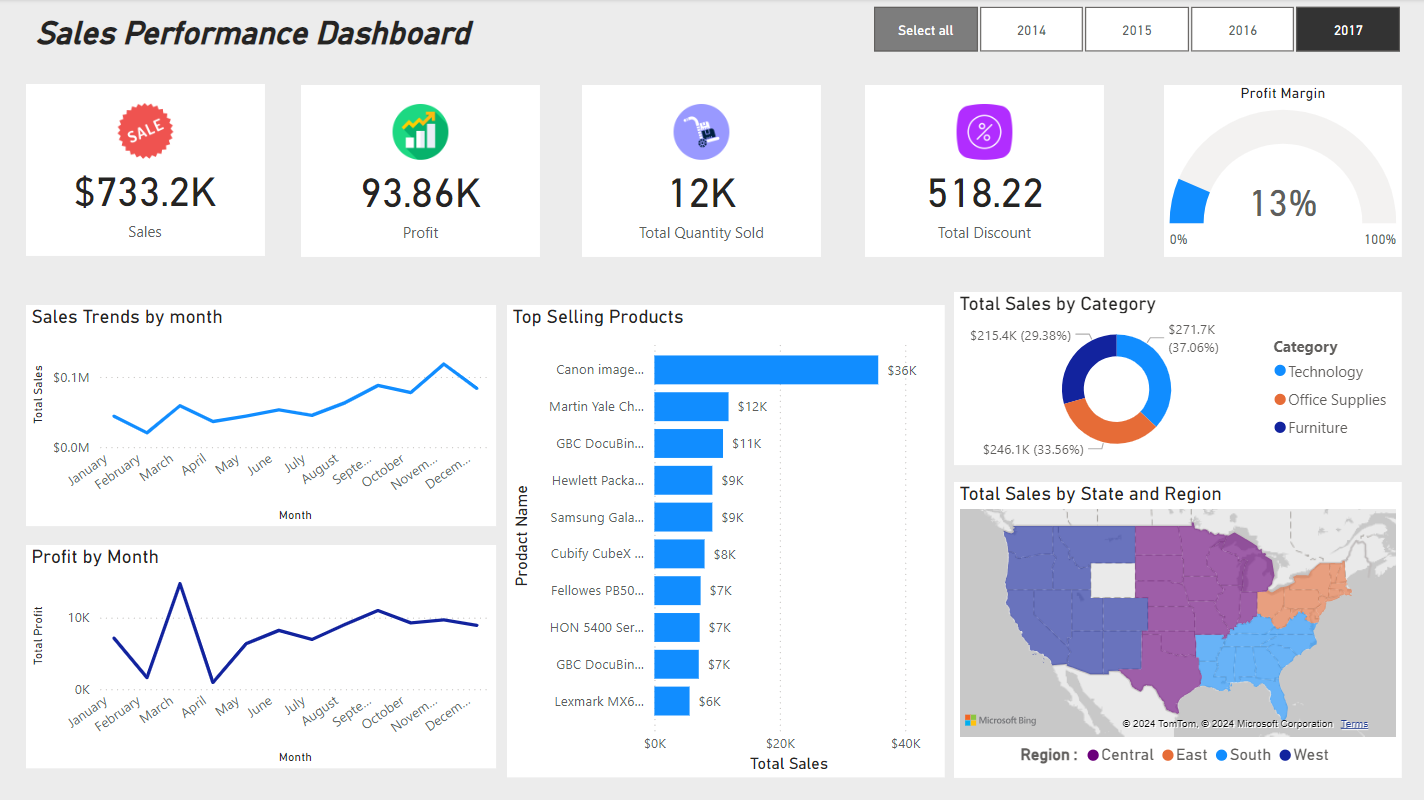

The dashboard page shown, as its layout file describes it:
{"tool":"powerbi","page":{"name":"Page 1","canvas":[1280,720],"ordinal":0},"visuals":[{"type":"textbox","box":[0,0,777.3,60.9],"z":0},{"type":"slicer","title":"Filter by Date","fields":{"Values":["SellesSuperStore.Order_Date.Variation.Date Hierarchy.Year"]},"box":[759,0,521,54.4],"z":1000},{"type":"cardVisual","fields":{"Data":["SellesSuperStore.Total Profit"]},"box":[272,77,214,154],"z":3000},{"type":"cardVisual","fields":{"Data":["SellesSuperStore.Total Quantity Sold"]},"box":[524,77,214,154],"z":4000},{"type":"cardVisual","fields":{"Data":["SellesSuperStore.Total Discount"]},"box":[777,77,214,154],"z":5000},{"type":"gauge","fields":{"Y":["SellesSuperStore.Profit Margin"]},"box":[1045,77,213,154],"z":6000},{"type":"clusteredBarChart","title":"Top Selling Products","fields":{"Y":["SellesSuperStore.Total Sales"],"Category":["SellesSuperStore.Product_Name"]},"box":[456.5,273.9,391.9,423.3],"z":7000},{"type":"lineChart","title":"Sales Trends by month","fields":{"Category":["SellesSuperStore.Order_Date.Variation.Date Hierarchy.Month"],"Y":["SellesSuperStore.Total Sales"]},"box":[25.8,273.9,420.5,198.3],"z":8000},{"type":"filledMap","fields":{"Category":["SellesSuperStore.State"],"Series":["SellesSuperStore.Region"]},"box":[857,432.2,400.9,264.8],"z":9000},{"type":"donutChart","fields":{"Y":["SellesSuperStore.Total Sales"],"Category":["SellesSuperStore.Category"]},"box":[856.7,262.8,401.2,154.9],"z":10000},{"type":"lineChart","title":"Profit by Month","fields":{"Category":["SellesSuperStore.Order_Date.Variation.Date Hierarchy.Month"],"Y":["SellesSuperStore.Total Profit"]},"box":[25.8,488.8,420.5,200.1],"z":11000},{"type":"cardVisual","fields":{"Data":["SellesSuperStore.Total Sales"]},"box":[25.8,76.5,213.9,154],"z":11001}]}

Visuals, with their boxes in screenshot pixels (x1, y1, x2, y2), scaled from the page's 1280x720 canvas onto the 1424x800 screenshot:
textbox: 0,0,865,68
"Filter by Date" slicer: 844,0,1423,60
cardVisual - SellesSuperStore.Total Profit: 303,86,541,257
cardVisual - SellesSuperStore.Total Quantity Sold: 583,86,821,257
cardVisual - SellesSuperStore.Total Discount: 864,86,1102,257
gauge - SellesSuperStore.Profit Margin: 1163,86,1400,257
"Top Selling Products" clusteredBarChart: 508,304,944,775
"Sales Trends by month" lineChart: 29,304,497,525
filledMap - SellesSuperStore.State x SellesSuperStore.Region: 953,480,1399,774
donutChart - SellesSuperStore.Total Sales x SellesSuperStore.Category: 953,292,1399,464
"Profit by Month" lineChart: 29,543,497,765
cardVisual - SellesSuperStore.Total Sales: 29,85,267,256
